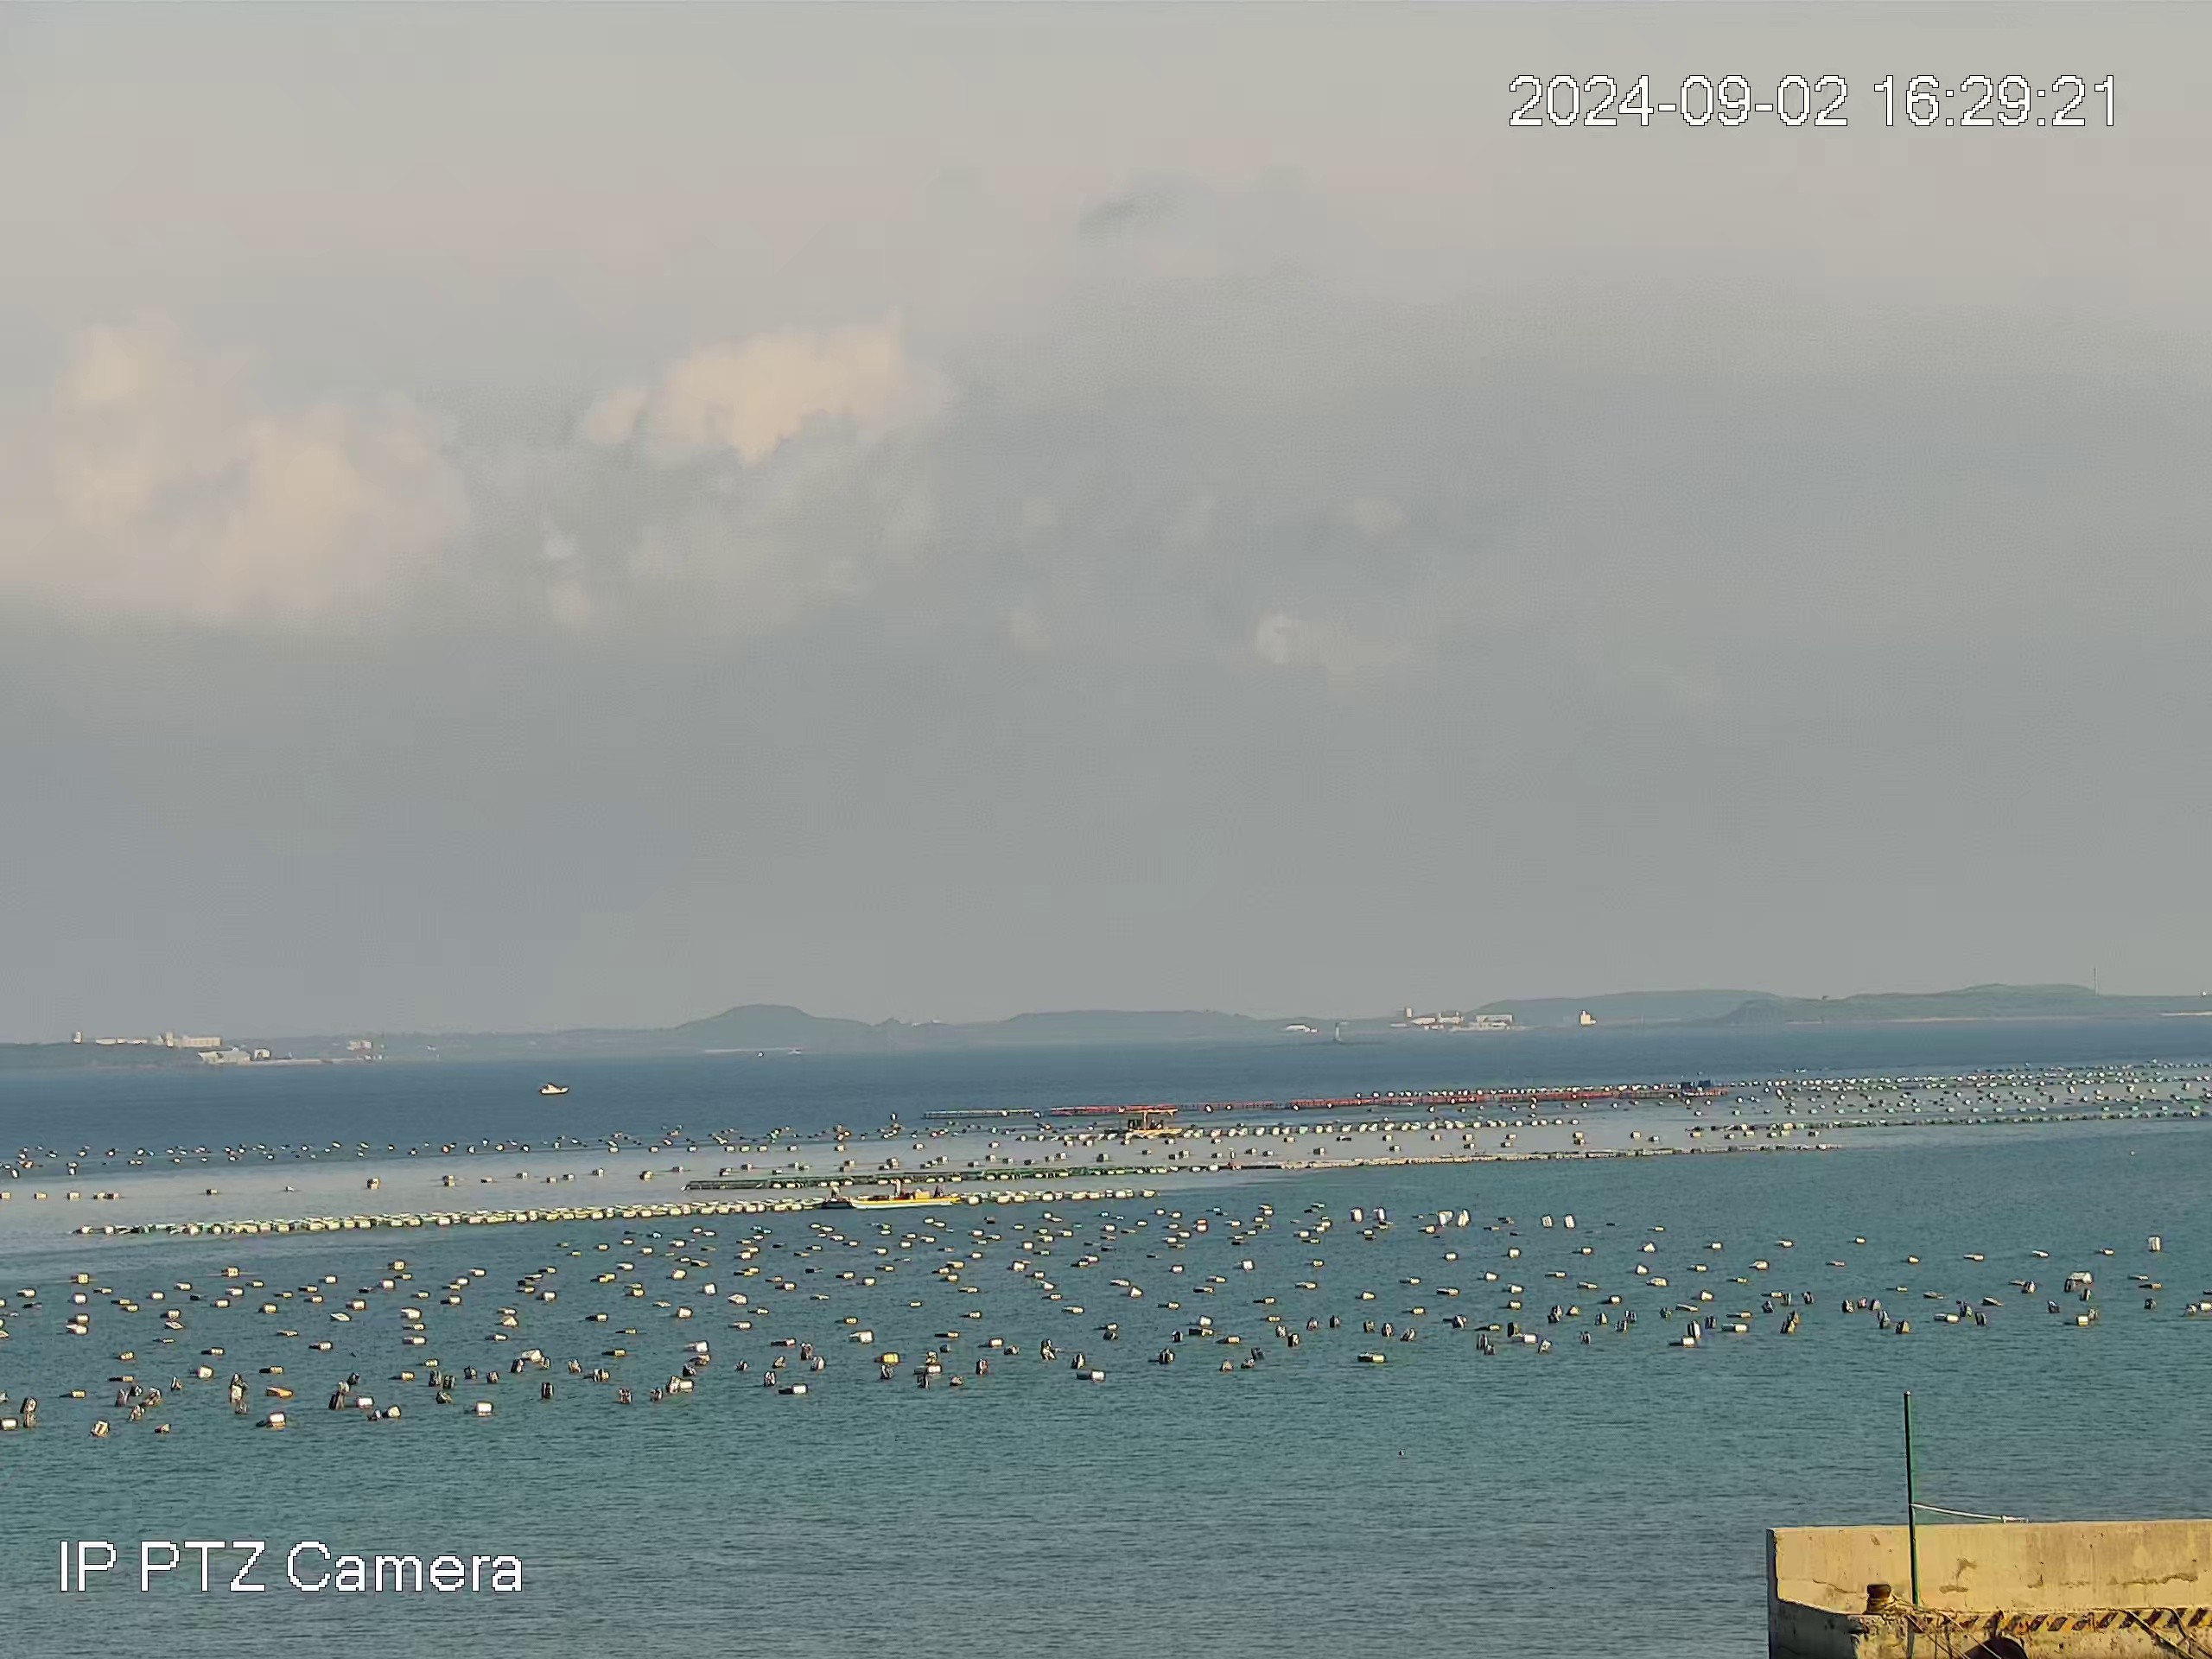boat: (845, 1178, 961, 1209), (1123, 1108, 1183, 1133), (538, 1080, 570, 1094)
